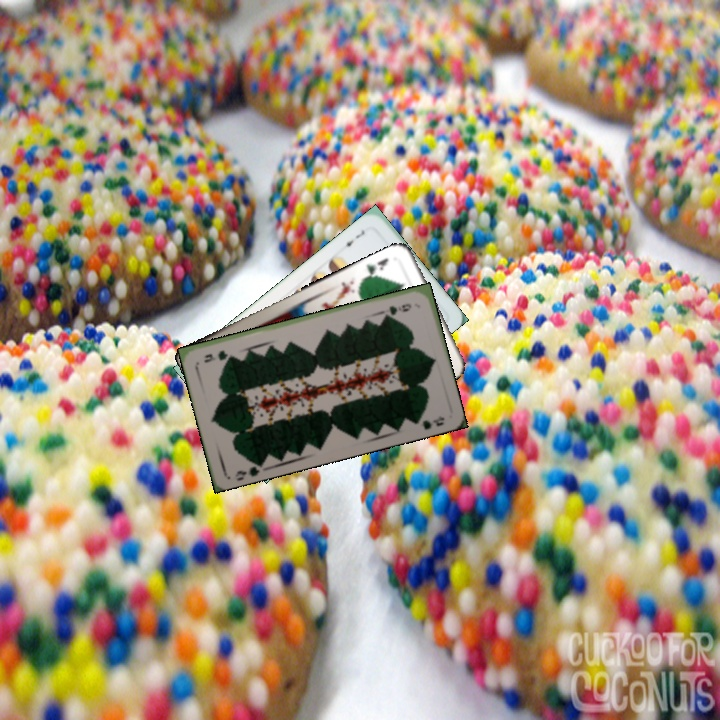E7: (338, 226, 368, 250)
G9: (231, 458, 265, 482), (385, 299, 414, 317)
GK: (362, 254, 391, 280)
